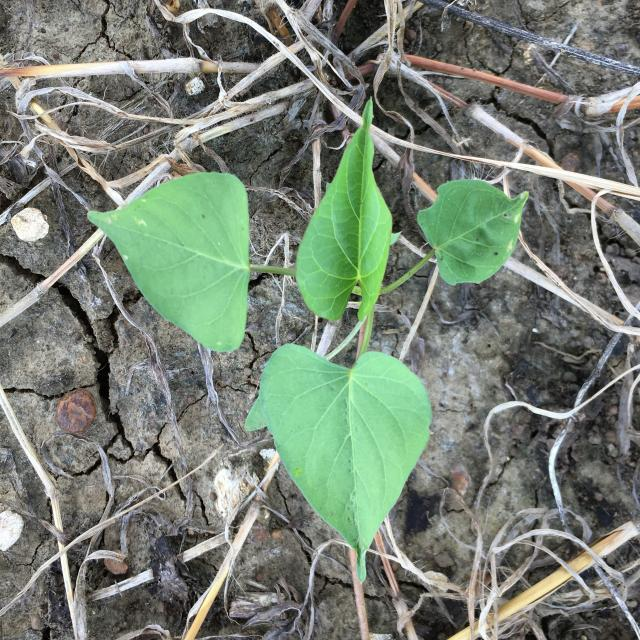MorningGlory: (86, 97, 528, 584)
